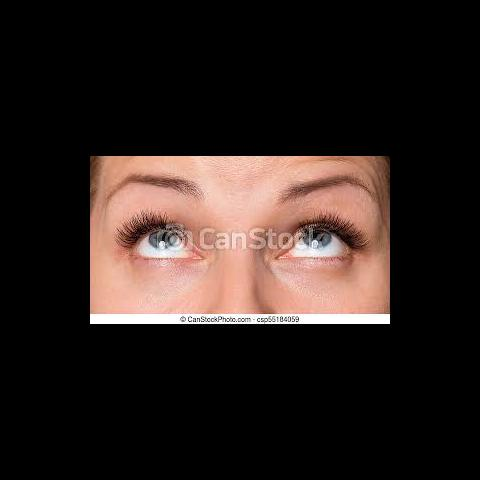opened: (103, 174, 376, 278)
